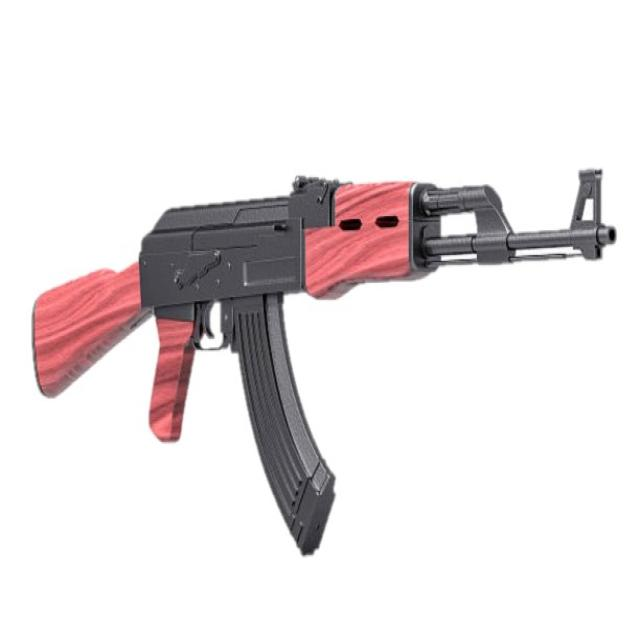rifle: (18, 136, 618, 589)
